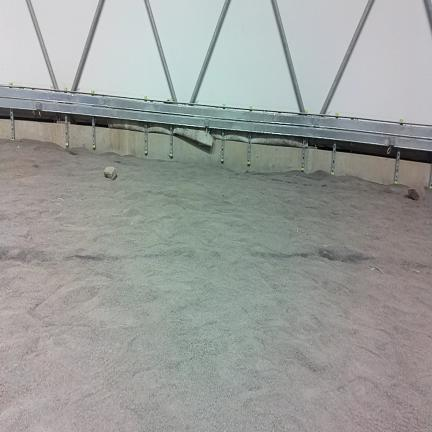Rock: (104, 167, 116, 179), (407, 189, 419, 200)
